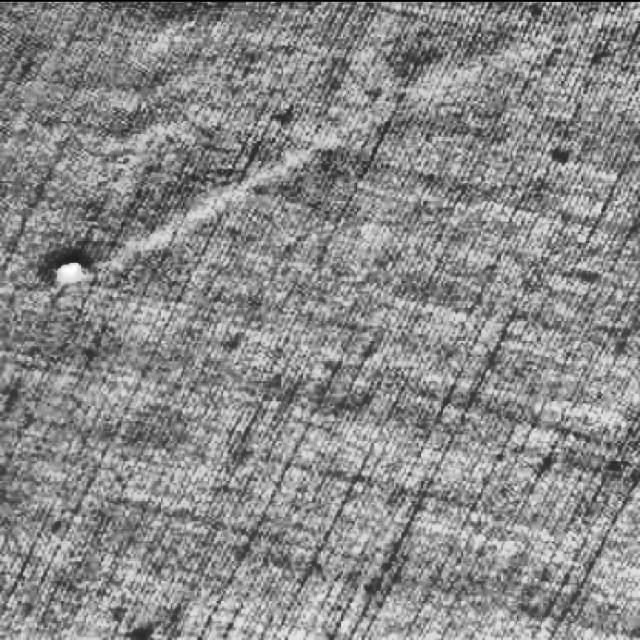hole: (46, 249, 94, 292)
